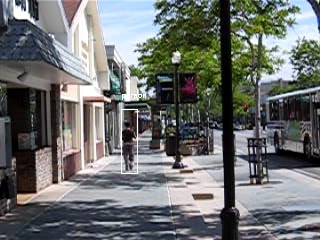person: (121, 123, 138, 174), (120, 123, 137, 174), (122, 123, 139, 174), (121, 122, 138, 173), (121, 124, 138, 175)
target_negative: (111, 145, 299, 219), (113, 136, 180, 223), (299, 177, 320, 234), (266, 142, 282, 215), (169, 134, 214, 139), (82, 149, 92, 168)
